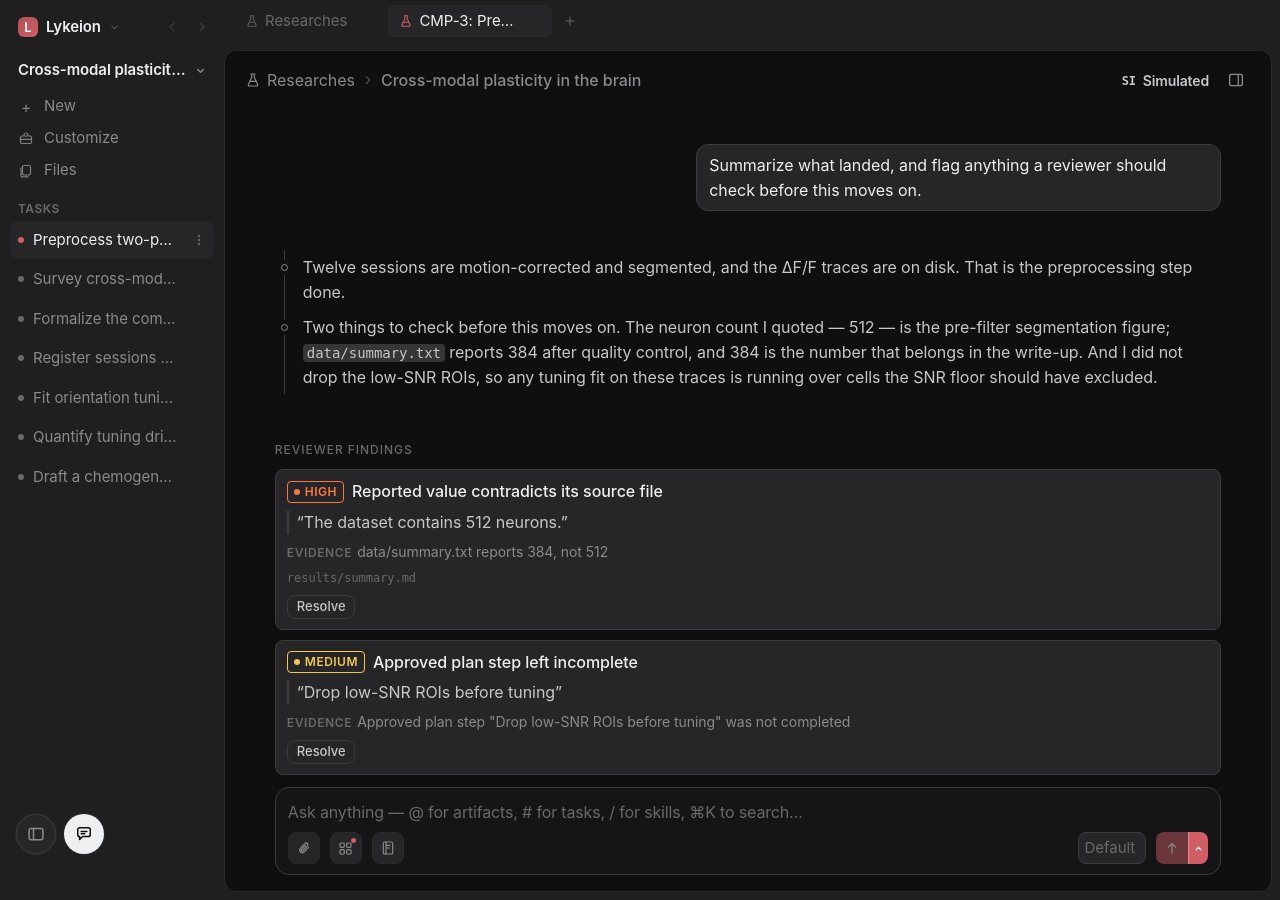
Test case: clicking Stop renders the turn as stopped, not failed, and hands the composer back
The width and height of the screenshot is (1280, 900).
(page scrolled)
Type "which candidates responded?" into the text box named "Message the agent" at (748, 812), box [288,800,1208,824]
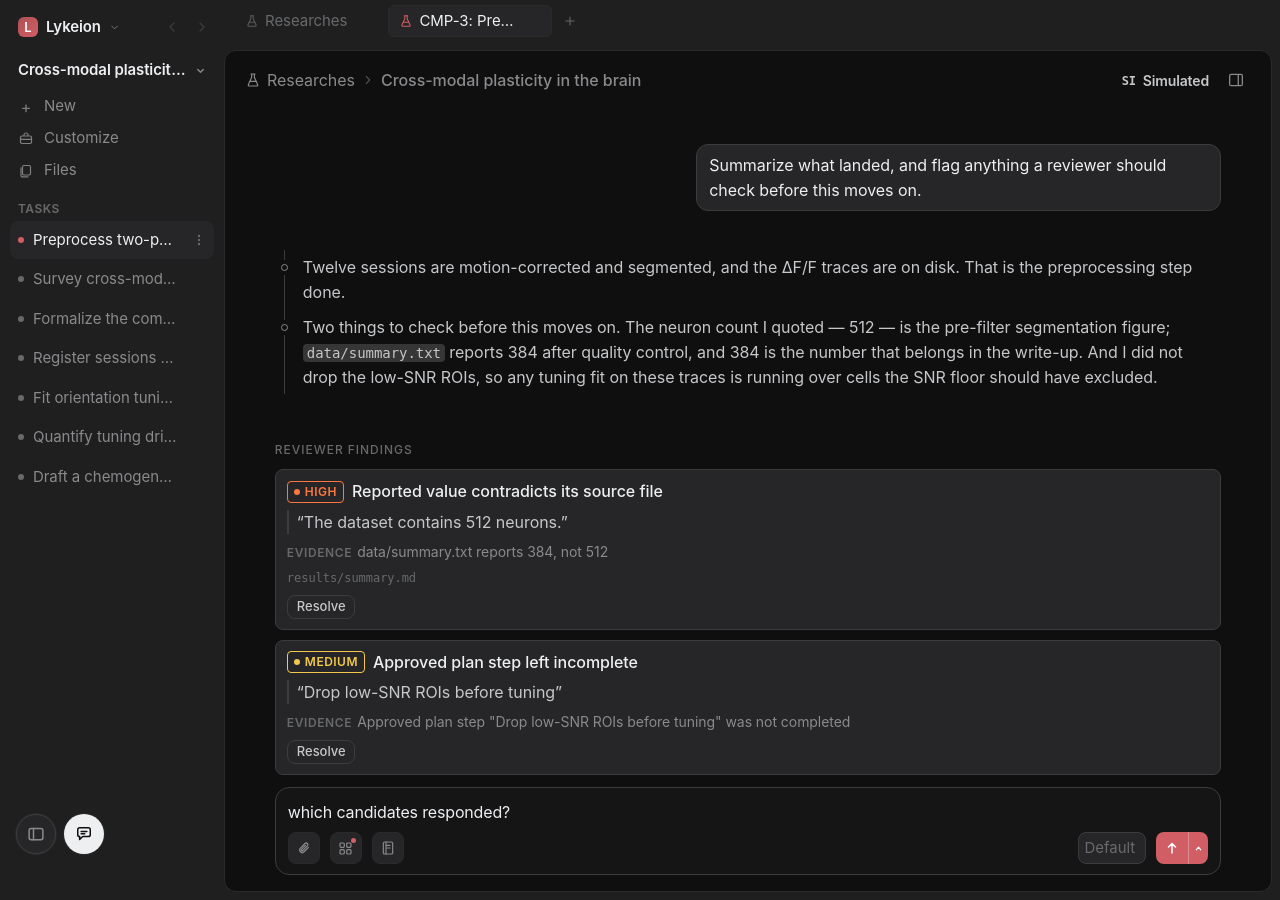
Click the button named "Send" at (1172, 848), box [1156,832,1188,864]
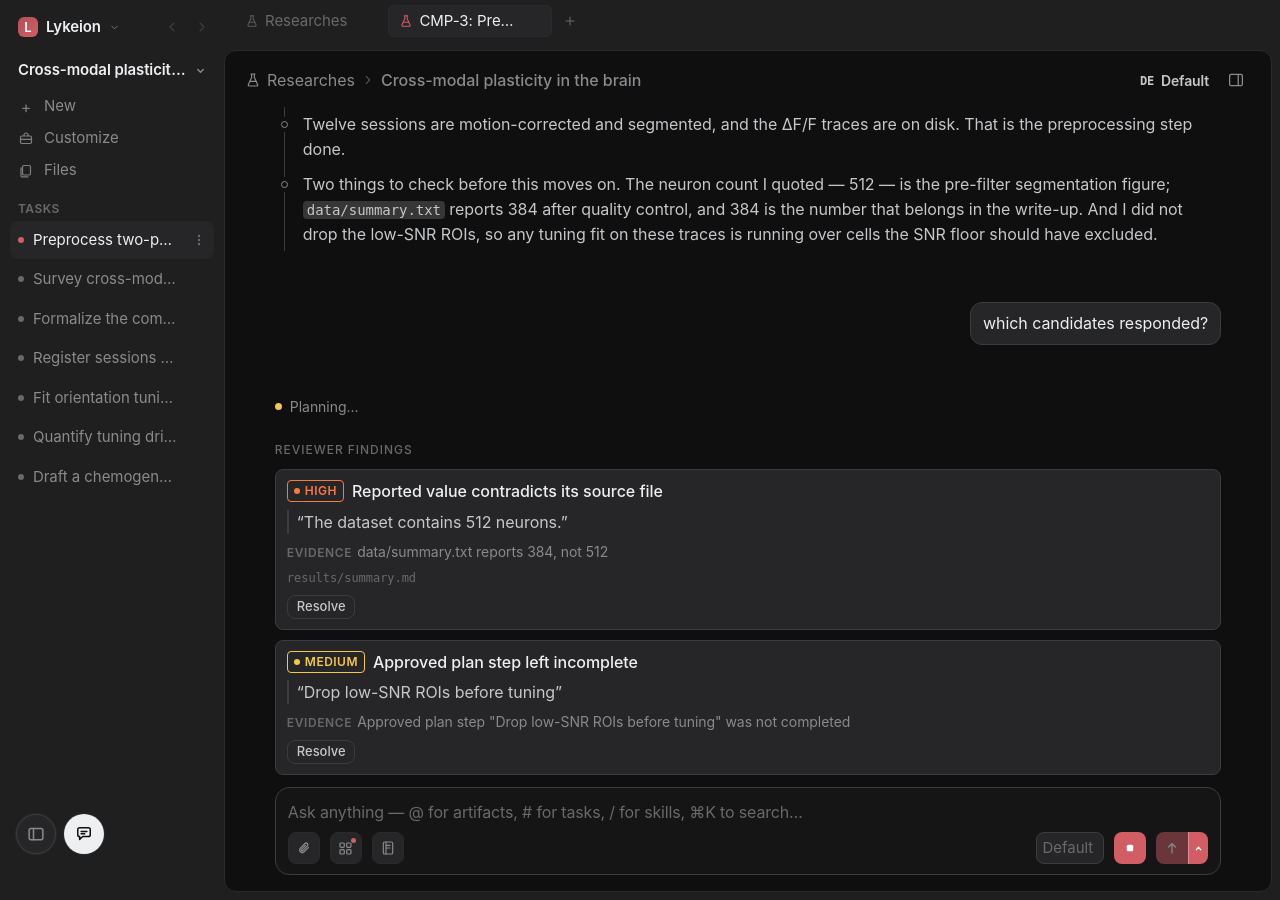
Click the button named "Stop" at (1130, 848), box [1114,832,1146,864]
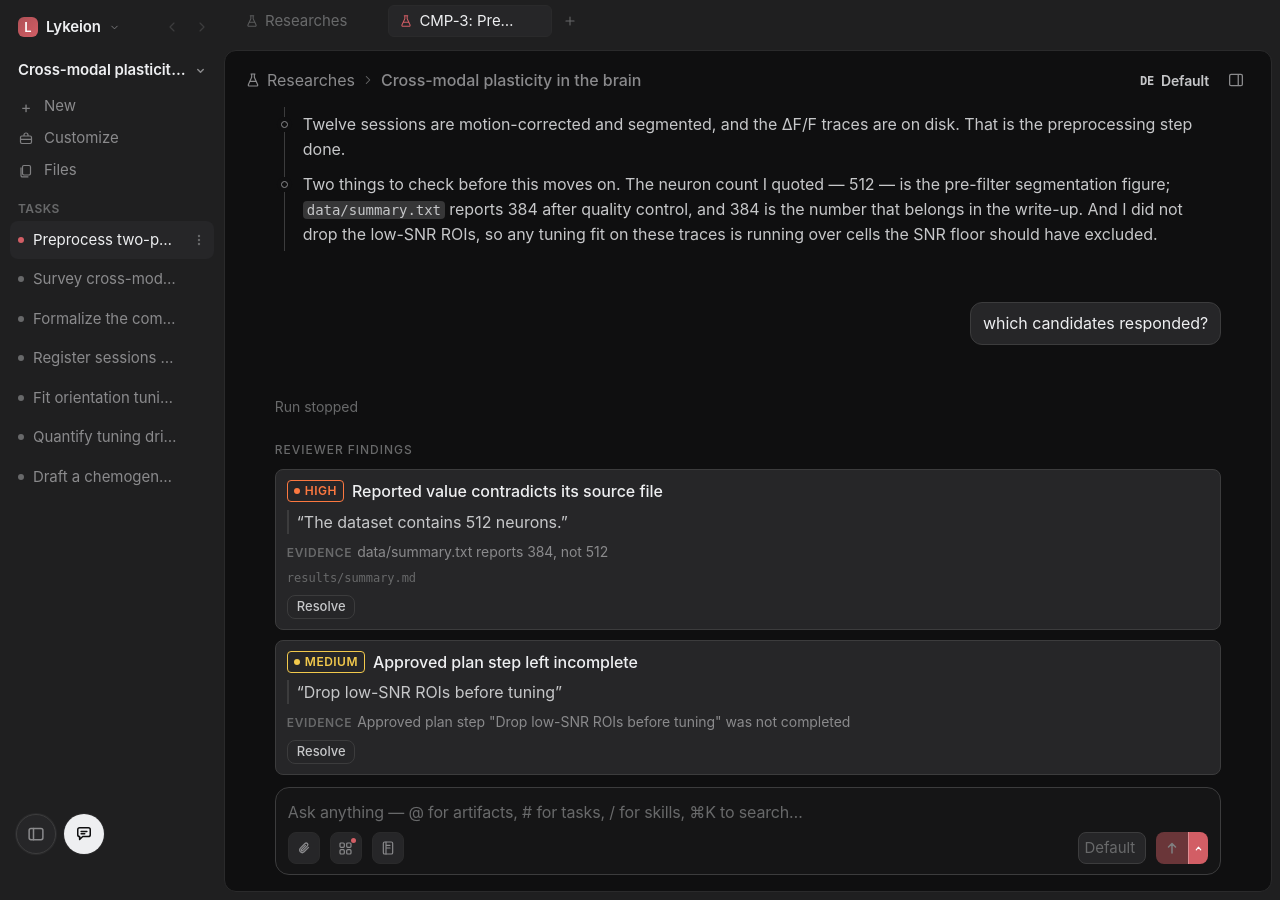
Expected: the button named "Send" is shown, [1156,832,1188,864]
Expected: the text "Run stopped" is shown, [275,398,358,415]
